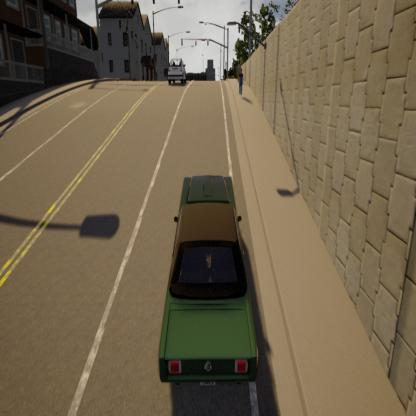Cars: (143, 157, 267, 402), (164, 53, 189, 89)
Pedestrian: (236, 66, 249, 99)
